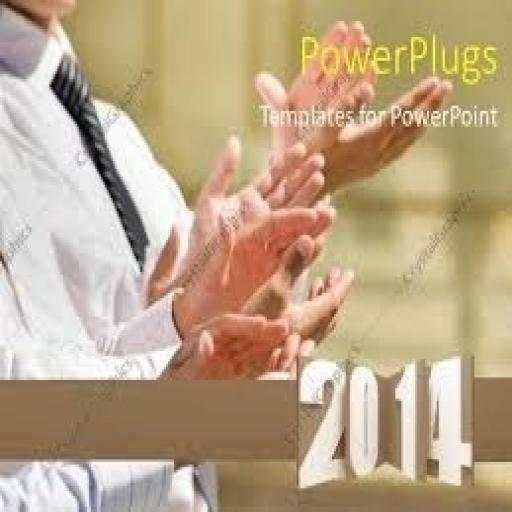clapping: (0, 0, 452, 509)
